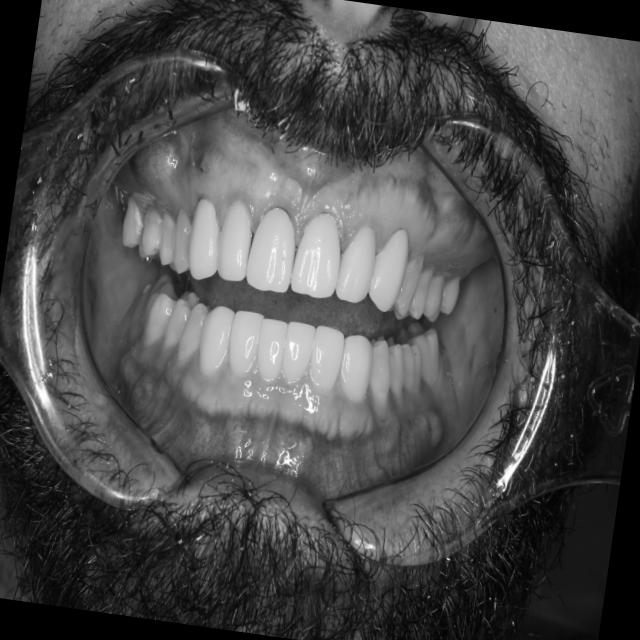tooth: (233, 182, 319, 312), (285, 201, 353, 314), (172, 180, 237, 294), (201, 183, 268, 290), (364, 211, 418, 321), (331, 210, 386, 313), (302, 316, 354, 405), (329, 327, 383, 412), (223, 302, 272, 390), (193, 302, 241, 391), (357, 327, 403, 413), (247, 311, 299, 387), (275, 314, 321, 399), (400, 316, 452, 391), (373, 332, 417, 413), (162, 198, 204, 282), (156, 282, 197, 366), (390, 237, 427, 328), (172, 295, 213, 376), (388, 339, 433, 404), (129, 200, 170, 268), (137, 285, 175, 355), (111, 188, 150, 255), (151, 202, 187, 273), (420, 264, 452, 332), (410, 257, 437, 325), (144, 268, 182, 306), (438, 267, 465, 320)
